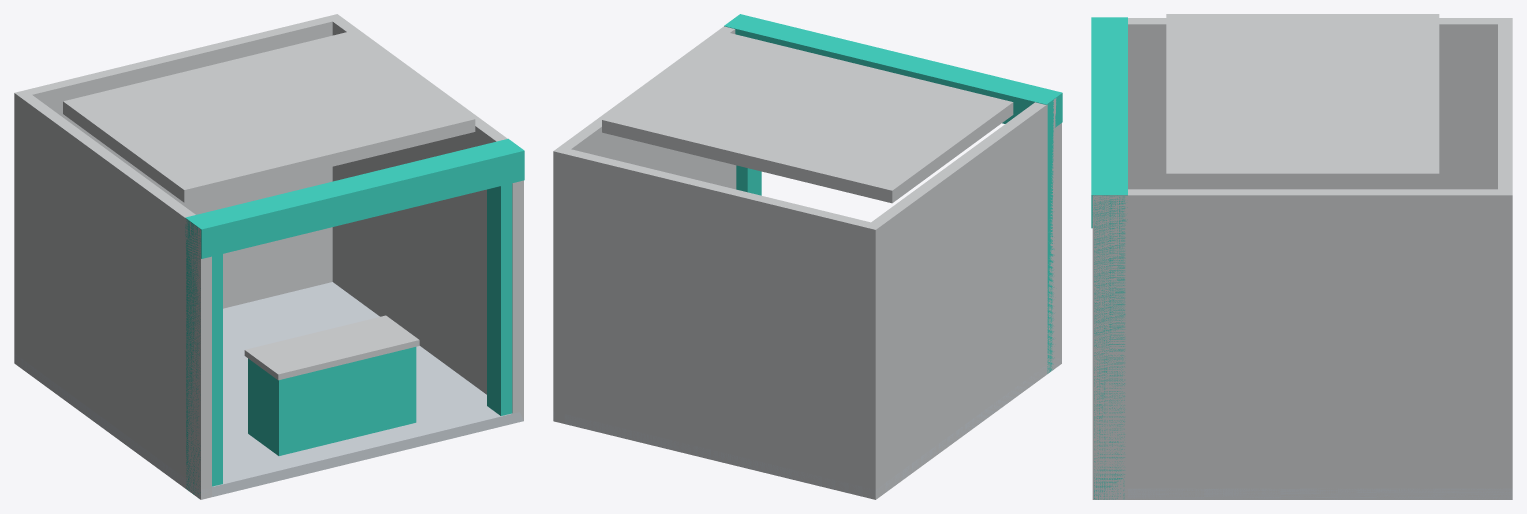
3 renders of one model, left to right at view 1: azimuth 30°, elevation 25°; view 2: azimuth 150°, elevation 25°; view 3: azimuth 270°, elevation 25°, orthographic. The views are drawn at different scales.
Parts seen in each view (by area): view 1: Exhibition Booth Concept; view 2: Exhibition Booth Concept; view 3: Exhibition Booth Concept.
Boxes of the visible parts, left/top/right/bottom form: Exhibition Booth Concept: left=14, top=14, right=524, bottom=499; Exhibition Booth Concept: left=553, top=14, right=1062, bottom=499; Exhibition Booth Concept: left=1091, top=14, right=1512, bottom=499.
Bounding box in the file's own units: 4 × 3.34 × 4.02.
